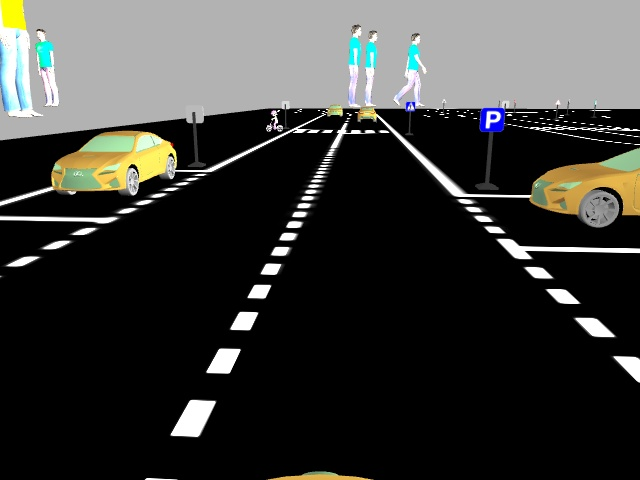Parking: (474, 106, 506, 134)
